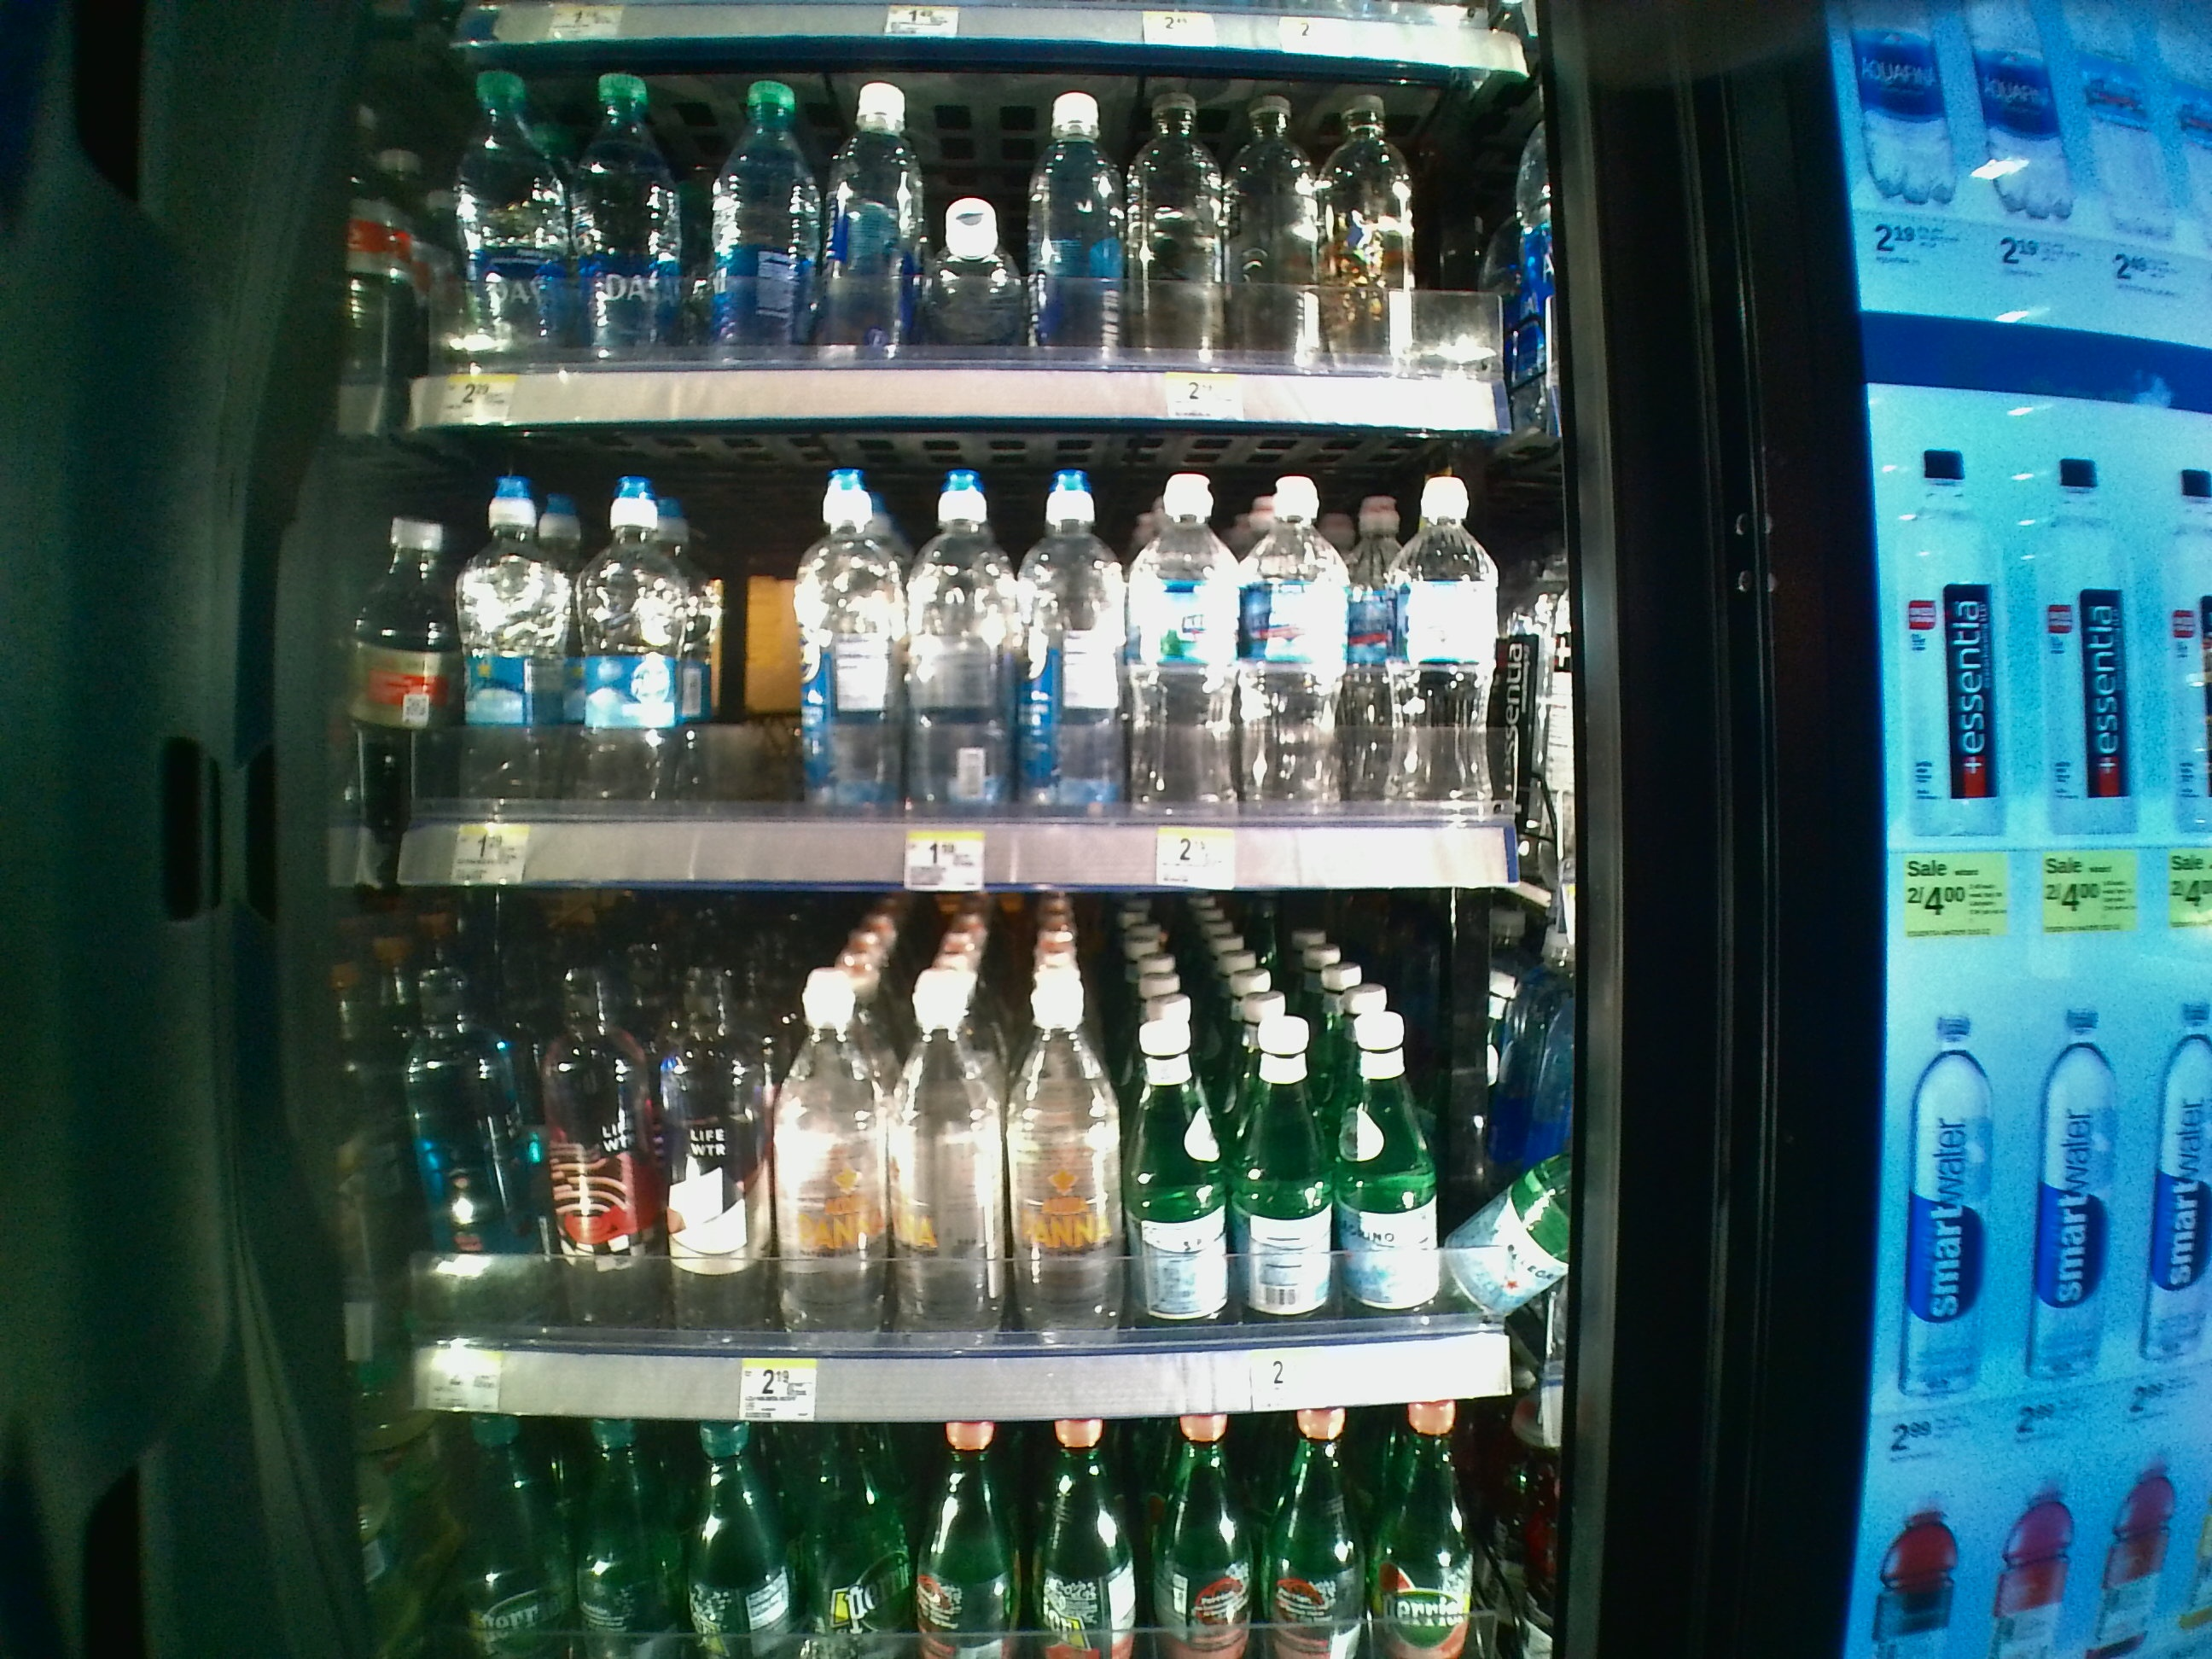shelf: (334, 892, 1587, 1427), (336, 425, 1578, 894)
